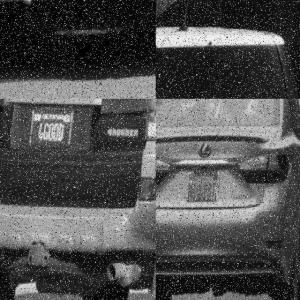Plate: (29, 106, 72, 156), (188, 171, 218, 205)
